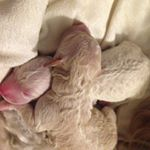puppy: (33, 19, 121, 150)
